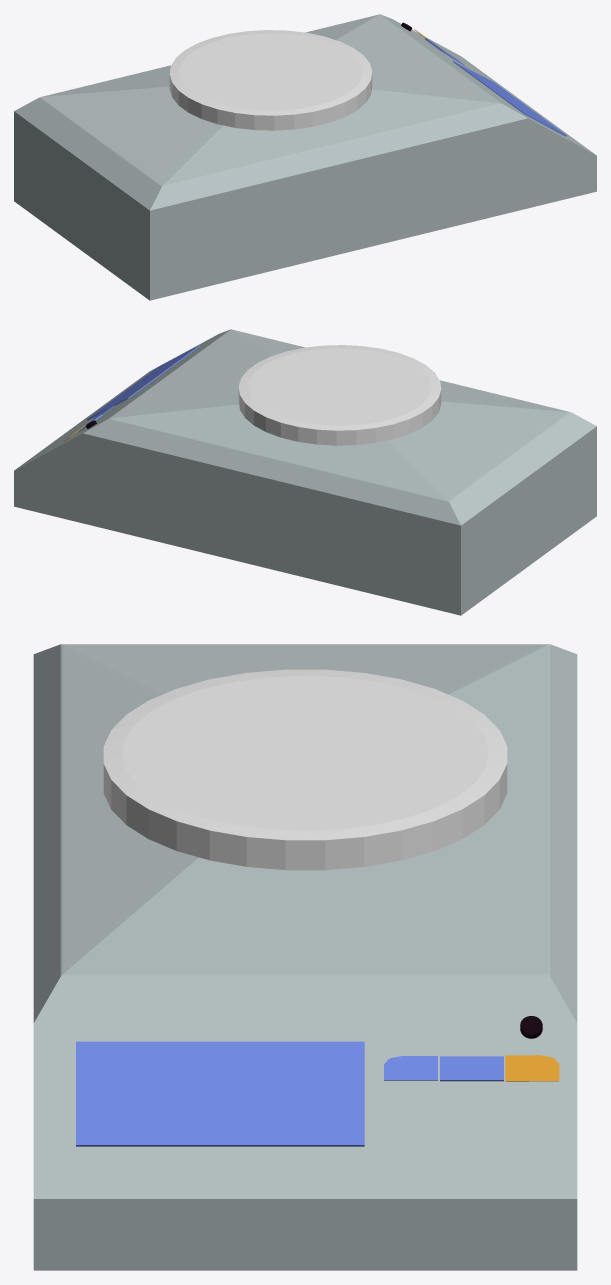
Rendered from bançaanalitica.fbx.
The picture shows the model from 3 angles, top to bottom: view 1: azimuth 30°, elevation 25°; view 2: azimuth 150°, elevation 25°; view 3: azimuth 270°, elevation 25°; orthographic projection. The views are drawn at different scales.
Parts seen in each view (by area): view 1: Cube.005; view 2: Cube.005; view 3: Cube.005.
Part boxes in pixels (x1,y1,x2,y2): Cube.005: (14,14,596,300); Cube.005: (14,329,596,615); Cube.005: (33,644,577,1270).
Bounding box in the file's own units: 80.27 × 22.79 × 42.25.
